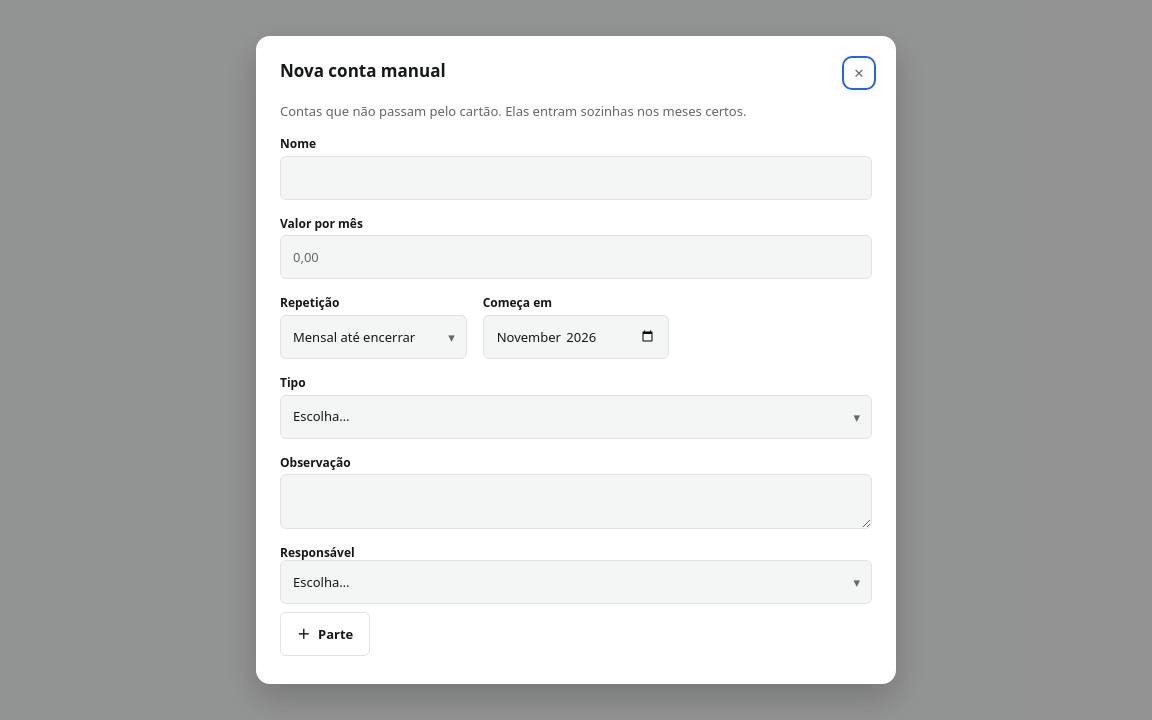
it: FormularioConta › os campos de cada parte têm nome acessível, mesmo sem rótulo visível
Click the button with aria-label "Adicionar parte": (325, 634) [280,612,370,656]
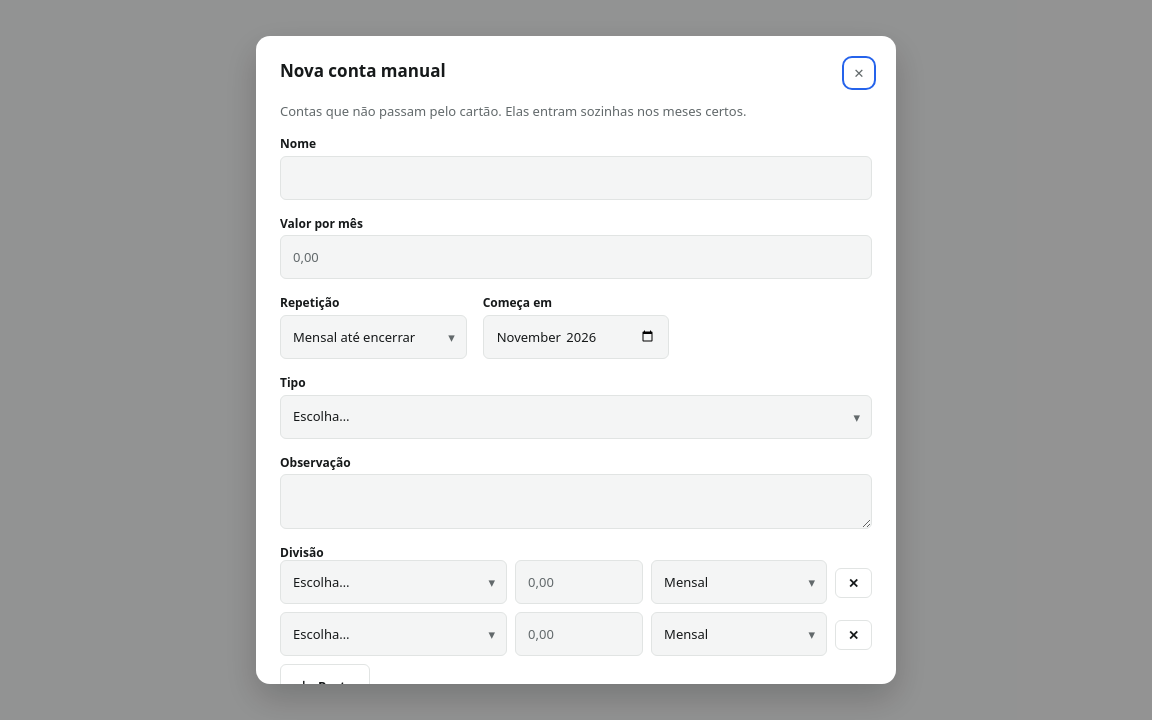
Expected: the field named "Valor da parte 1" is shown, [515,560,643,604]
Expected: the 3rd dropdown named "Responsável da parte 2" is shown, [280,612,507,656]
Expected: the field named "Valor da parte 2" is shown, [515,612,643,656]
